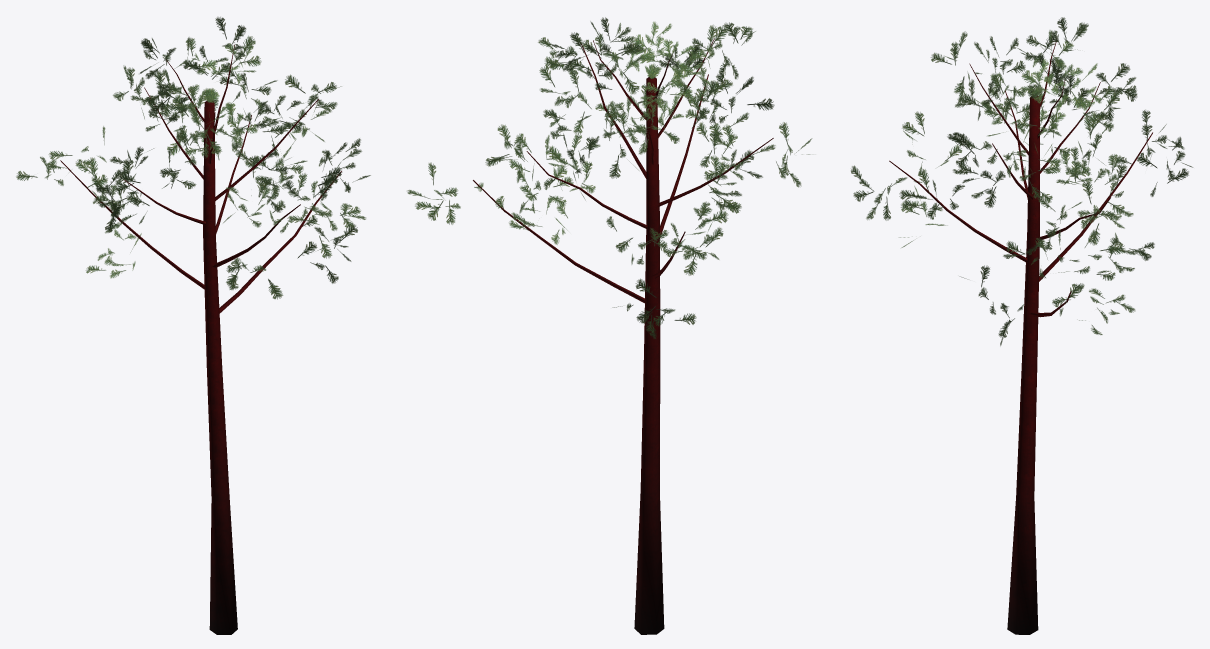
File: pine_open_v02_LOD2.glb
The picture shows the model from 3 angles, left to right: view 1: azimuth 30°, elevation 25°; view 2: azimuth 150°, elevation 25°; view 3: azimuth 270°, elevation 25°; orthographic projection. The views are drawn at different scales.
Visible parts, largest first — view 1: pine_open_v02_LOD2; view 2: pine_open_v02_LOD2; view 3: pine_open_v02_LOD2.
Boxes of the visible parts, x1=… form: pine_open_v02_LOD2: x1=16, y1=17, x2=370, y2=634; pine_open_v02_LOD2: x1=407, y1=17, x2=812, y2=634; pine_open_v02_LOD2: x1=851, y1=17, x2=1192, y2=634.
Bounding box in the file's own units: 13.12 × 22.44 × 11.97.
Materials: 2 (2 with a texture image).
